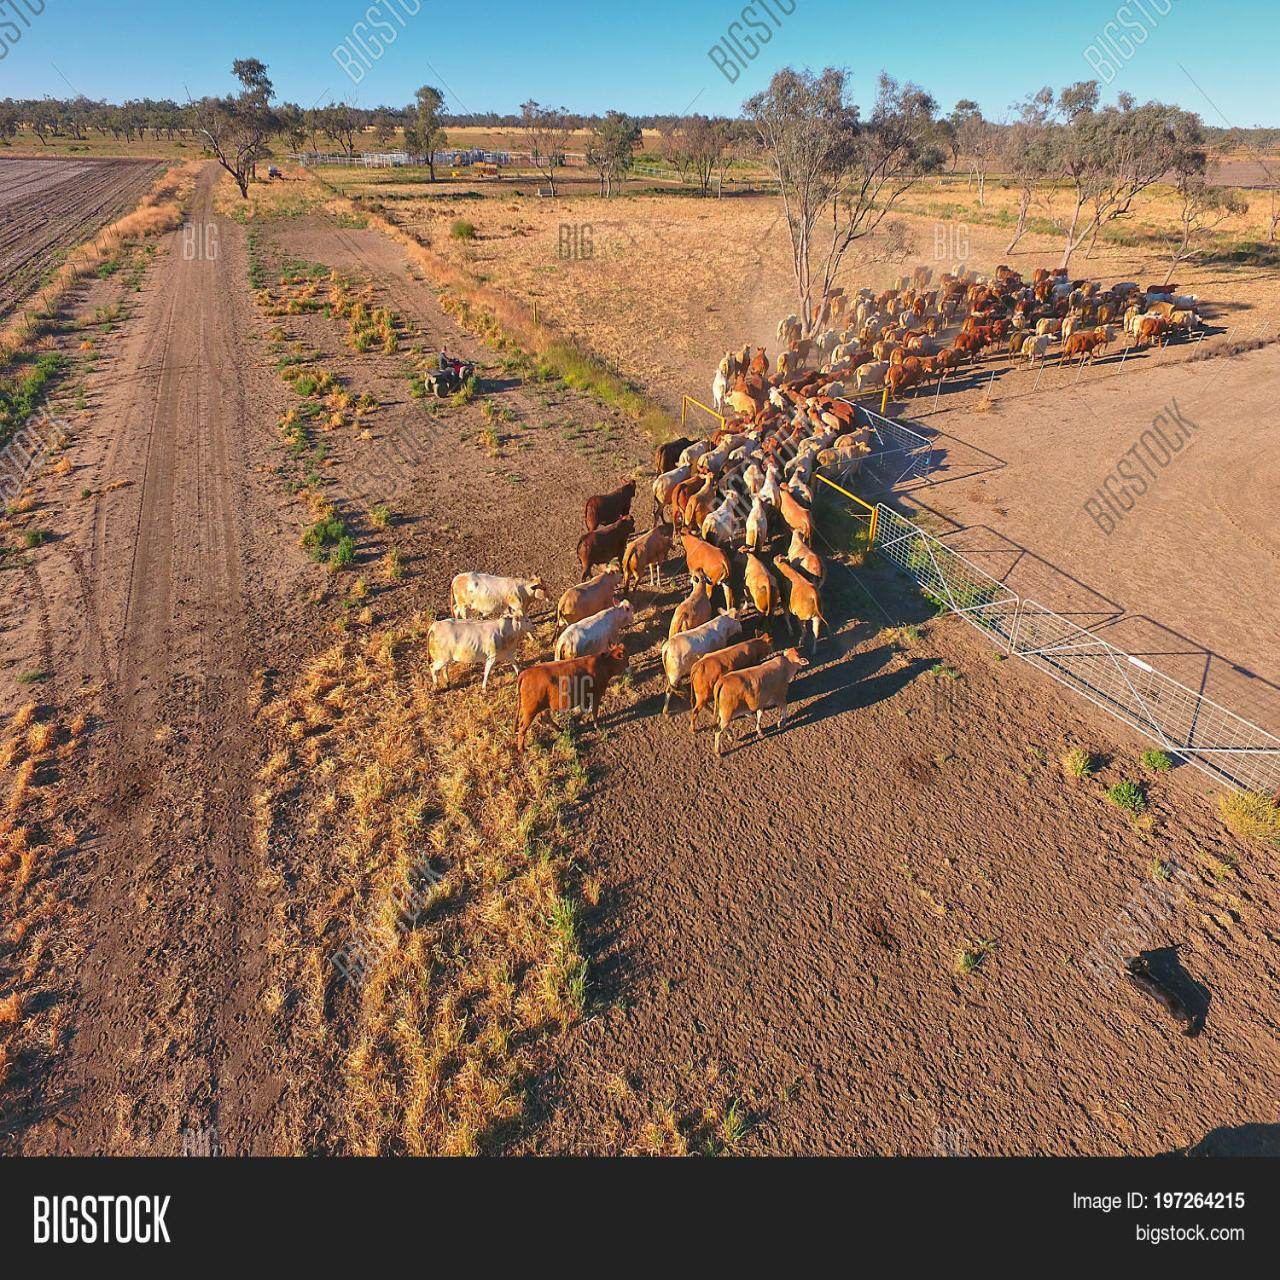cow: (509, 636, 634, 745), (709, 644, 801, 763), (427, 604, 539, 697), (688, 633, 777, 737), (659, 611, 738, 716), (447, 567, 554, 644), (553, 598, 639, 667), (771, 559, 822, 666), (554, 558, 625, 629), (574, 515, 635, 586), (676, 525, 731, 602), (617, 523, 673, 598), (584, 475, 640, 544), (669, 565, 716, 639), (735, 540, 778, 618), (816, 441, 870, 490), (788, 536, 830, 597), (683, 471, 724, 532), (703, 485, 743, 544), (1063, 333, 1112, 375), (651, 471, 687, 519), (670, 471, 697, 536), (781, 484, 811, 538), (651, 437, 692, 471), (1020, 329, 1053, 370), (787, 464, 815, 511), (851, 354, 886, 392), (747, 495, 769, 551), (837, 422, 874, 454), (754, 343, 769, 381), (712, 367, 728, 401)
